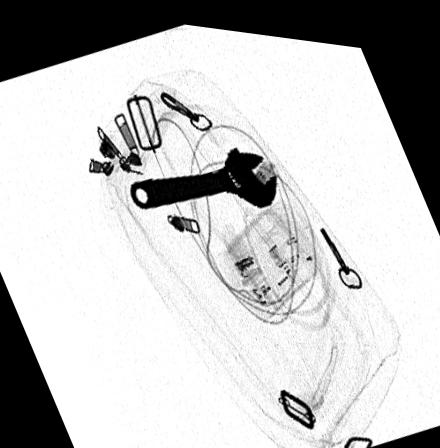Wrench: (128, 142, 277, 207)
